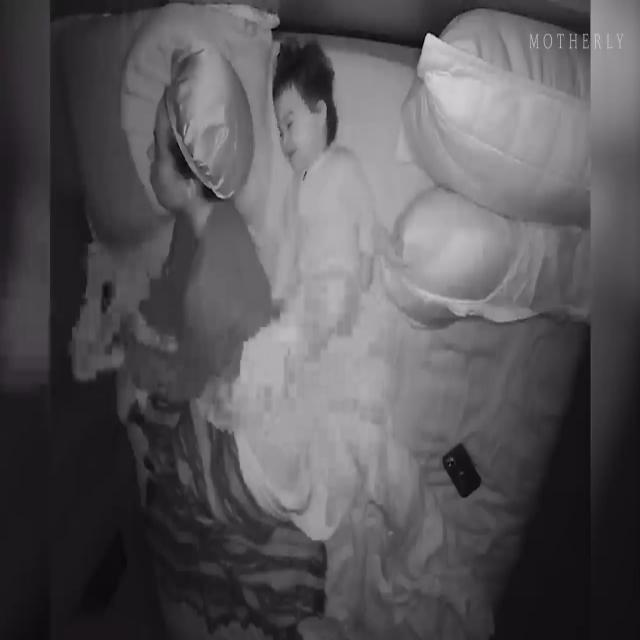baby: (269, 45, 375, 307)
